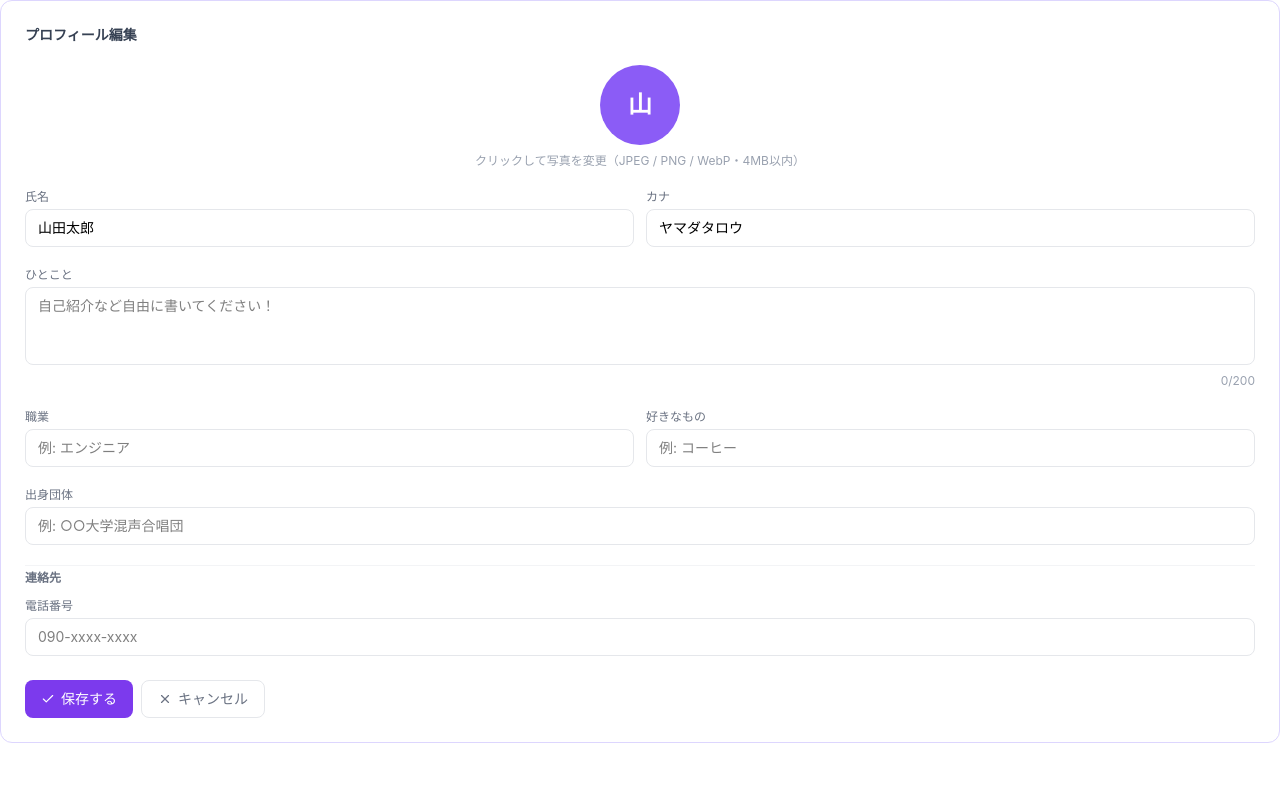
Test: EditForm（表示・入力） › ひとことの文字数カウンターが入力に応じて変化する
The image size is (1280, 800).
Expected: the text "0/200" is shown, [1221,373,1255,388]
In the text box labelled "ひとこと": (640, 326) [25,287,1255,365], type "よろしく"
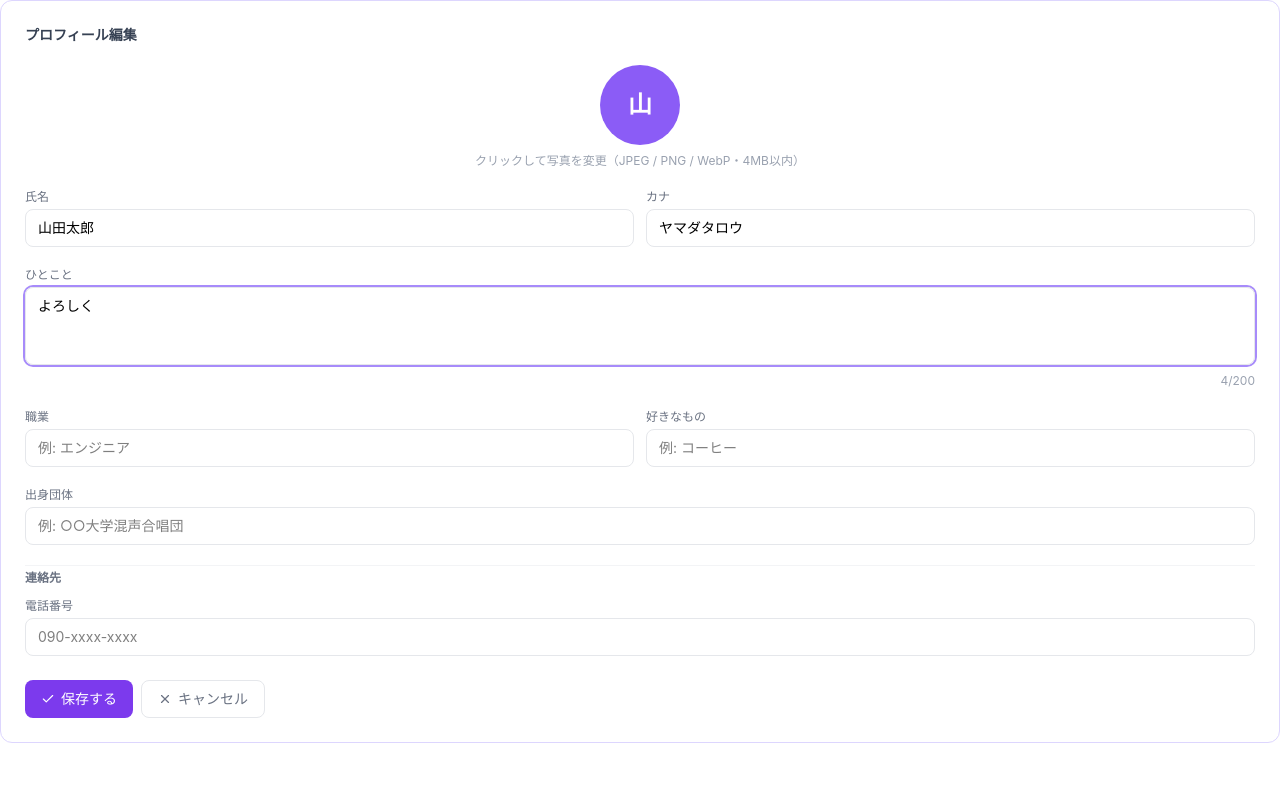
Expected: the text "4/200" is shown, [1220,373,1255,388]
